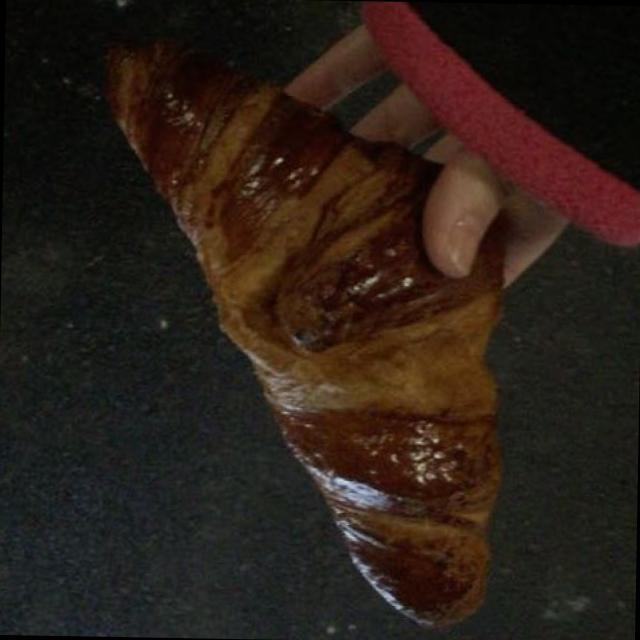Croissant: (83, 26, 517, 632)
